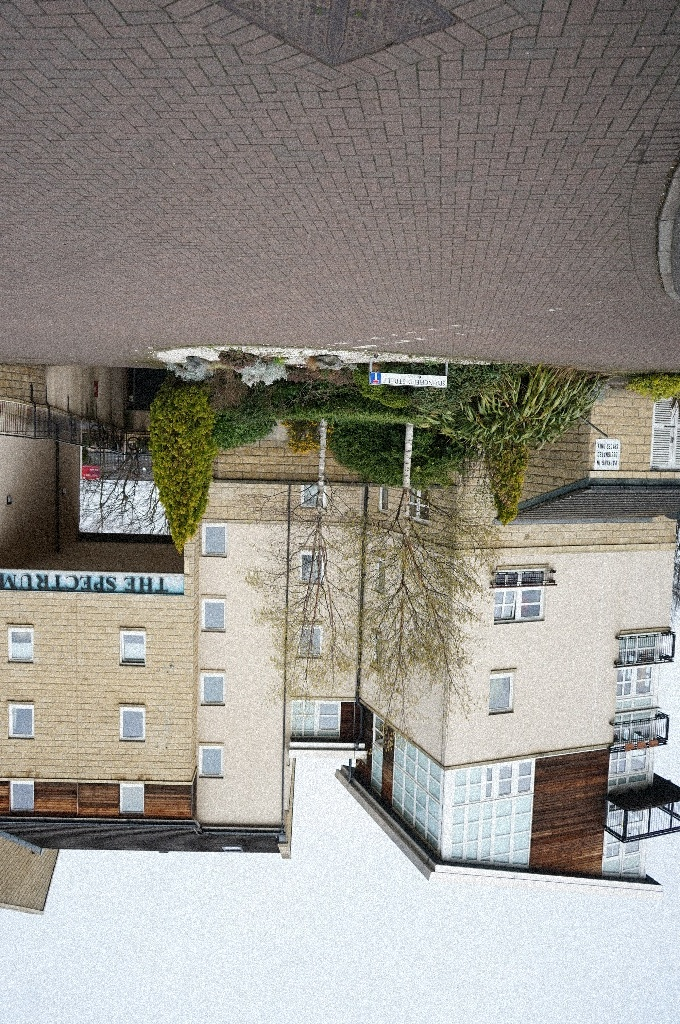Tree: (356, 425, 500, 746), (226, 406, 352, 720), (132, 368, 222, 555), (475, 424, 539, 533)
